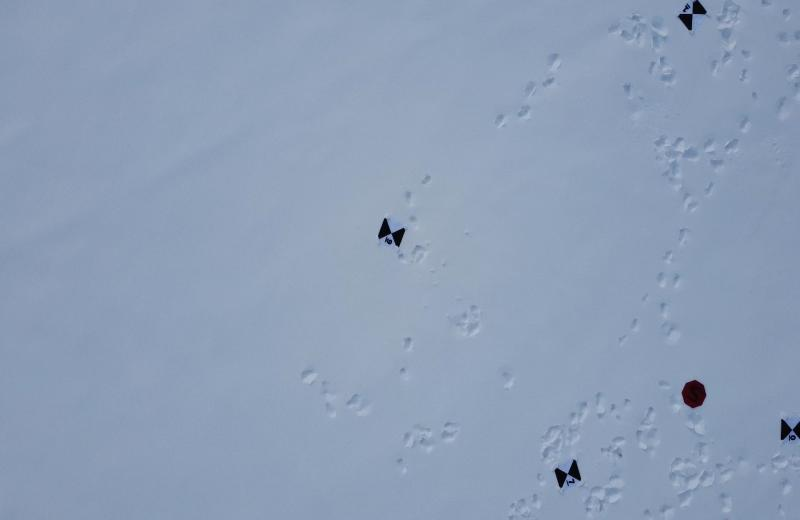Octagon: (679, 377, 710, 411)
